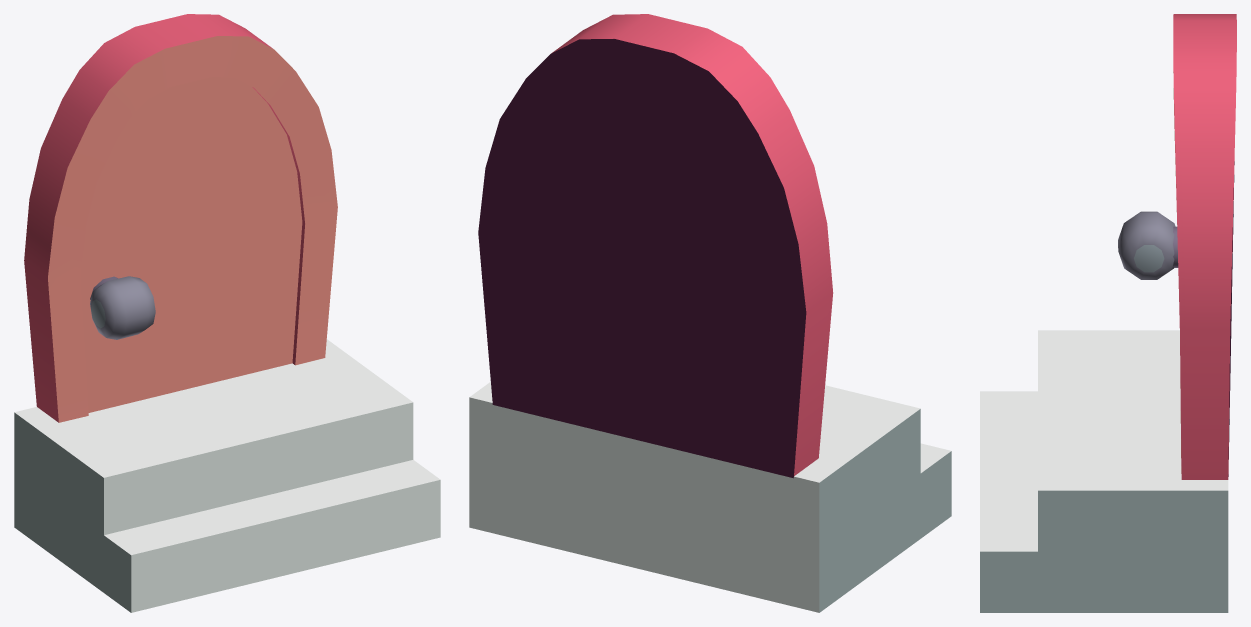
File: Door03_Pink_White.glb
3 views of the same model, side by side, from view 1: azimuth 30°, elevation 25°; view 2: azimuth 150°, elevation 25°; view 3: azimuth 270°, elevation 25° (orthographic). The views are drawn at different scales.
Parts seen in each view (by area): view 1: Door03_Pink_White; view 2: Door03_Pink_White; view 3: Door03_Pink_White.
Part boxes in pixels (x1,y1,x2,y2): Door03_Pink_White: [14, 14, 440, 612]; Door03_Pink_White: [469, 14, 951, 612]; Door03_Pink_White: [980, 14, 1236, 612].
Bounding box in the file's own units: 0.9795 × 1.41 × 0.6625.
1 material, 1 textured.
